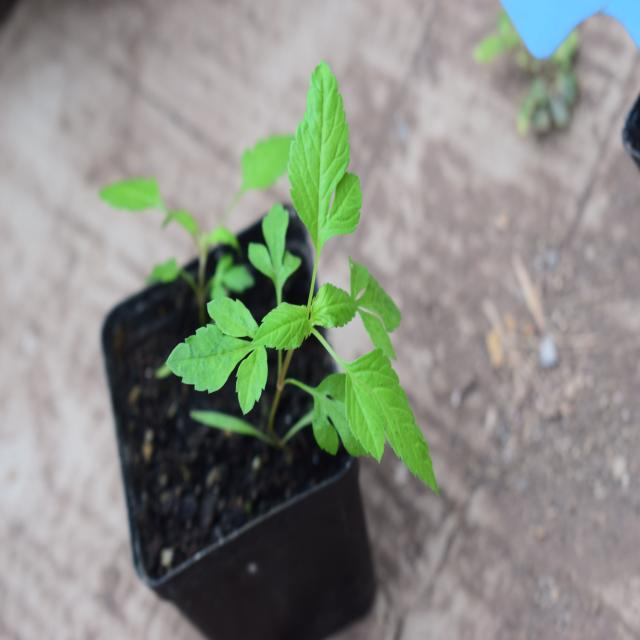Bidens pilosa: (160, 49, 437, 484)
